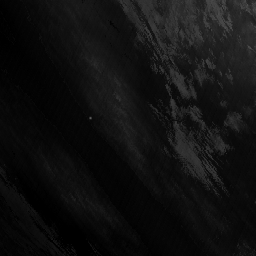Target: (87, 115, 93, 120)
